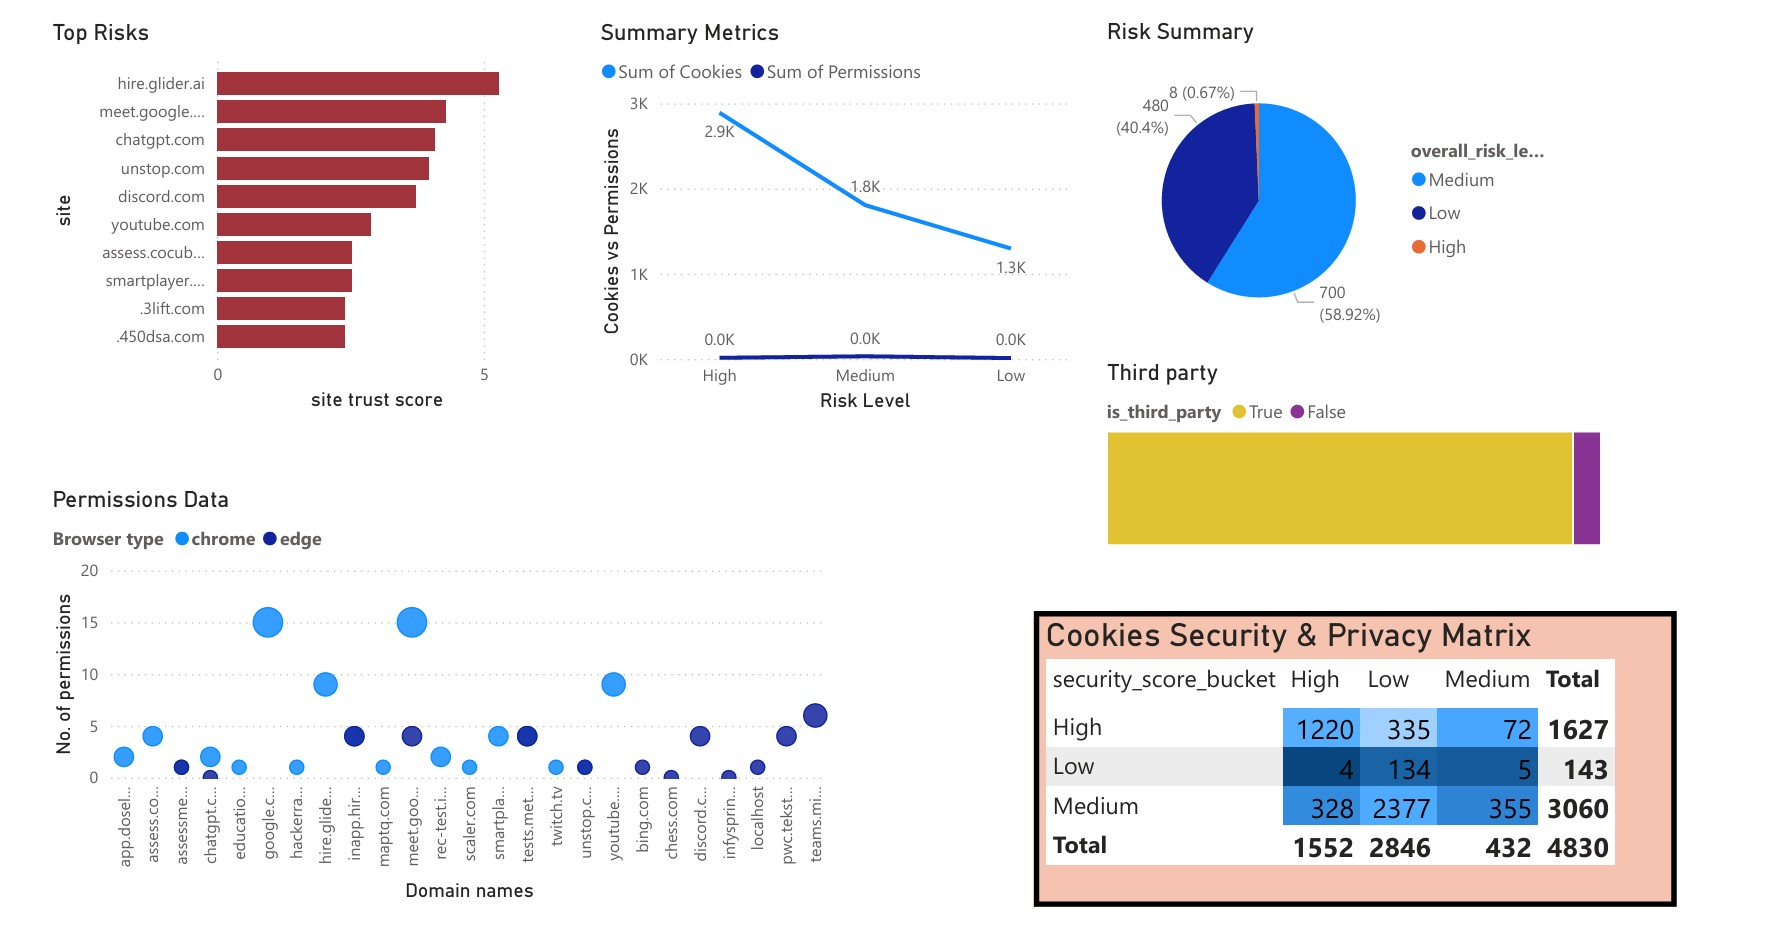

Layout of this report page (visuals, bound fields, positions):
{"tool":"powerbi","page":{"name":"Page 1","canvas":[1280,720],"ordinal":0},"visuals":[{"type":"barChart","title":"Top Risks","fields":{"Category":["Top Risks.site"],"Y":["Sum(Top Risks.site_trust_score)"]},"box":[15.4,14,372.1,295.2],"z":0},{"type":"lineChart","title":"Summary Metrics","fields":{"Category":["Summary Metrics (2).Risk Level"],"Y":["Sum(Summary Metrics (2).Cookies)","Sum(Summary Metrics (2).Permissions)","select"]},"box":[421.1,14,356.7,295.2],"z":1000},{"type":"pieChart","title":"Risk Summary","fields":{"Category":["Risk Summary.overall_risk_level"],"Y":["CountNonNull(Risk Summary.site)"]},"box":[795.7,13.2,341.7,252.6],"z":2000},{"type":"scatterChart","title":"Permissions Data","fields":{"X":["Permissions.domain"],"Y":["Sum(Permissions.sensitive_permission_count)"],"Size":["CountNonNull(Permissions.Trust indicator)"],"Series":["Permissions.browser"]},"box":[14.9,359.9,584.4,312],"z":3000},{"type":"treemap","title":"Third party","fields":{"Group":["Cookies.is_third_party"],"Values":["CountNonNull(Cookies.is_third_party)"]},"box":[795.7,265.8,376.4,143.6],"z":4000},{"type":"pivotTable","title":"Cookies Security & Privacy Matrix","fields":{"Rows":["Cookies.security_score_bucket"],"Columns":["Cookies.privacy_risk_bucket"],"Values":["CountNonNull(Cookies.host_key)"]},"box":[746.5,452.7,477,219.6],"z":4001}]}

Visuals, with their boxes on the page's 1280x720 design canvas (x1, y1, x2, y2). These are canvas units, not pixel positions in the 1783x945 screenshot, which may show the page scaled, cropped or inside an application window:
"Top Risks" barChart: [15,14,388,309]
"Summary Metrics" lineChart: [421,14,778,309]
"Risk Summary" pieChart: [796,13,1137,266]
"Permissions Data" scatterChart: [15,360,599,672]
"Third party" treemap: [796,266,1172,409]
"Cookies Security & Privacy Matrix" pivotTable: [746,453,1224,672]
